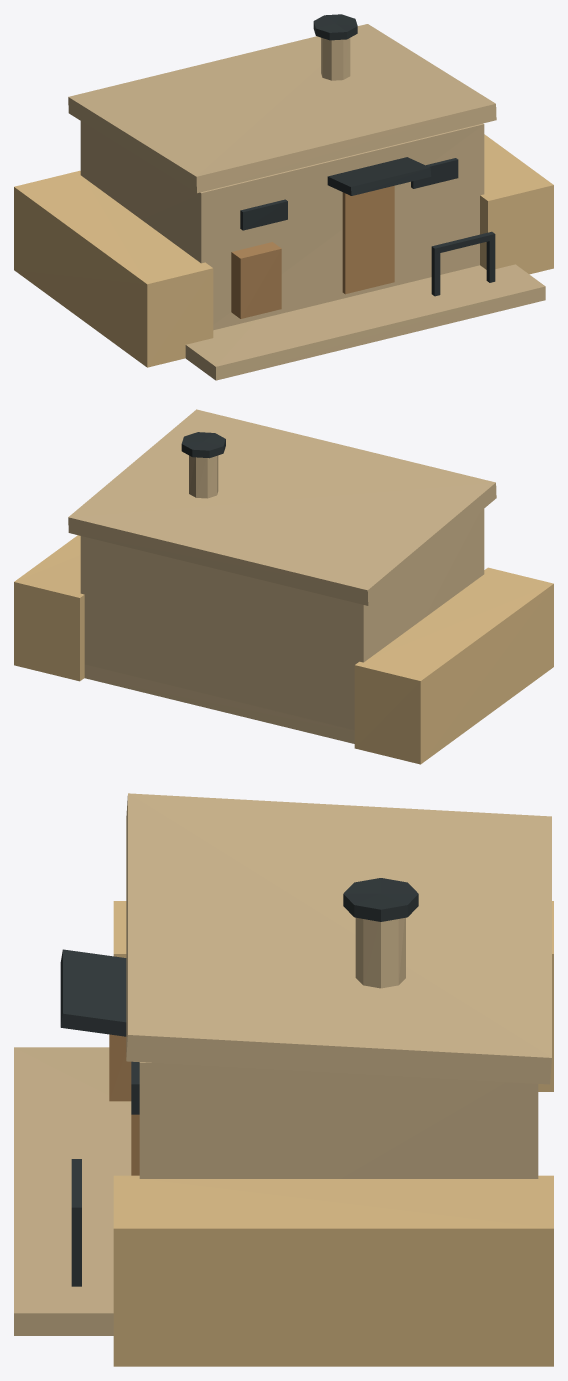
The model's file is Storm-shelter.glb.
The picture shows the model from 3 angles, top to bottom: view 1: azimuth 30°, elevation 25°; view 2: azimuth 150°, elevation 25°; view 3: azimuth 270°, elevation 25°; orthographic projection. The views are drawn at different scales.
Parts seen in each view (by area): view 1: storm-shelter-static-storm-shelter-pale-reinforced-concrete, storm-shelter-static-storm-shelter-muted-earth-berms, storm-shelter-static-storm-shelter-charcoal-canopy-vents-rai, storm-shelter-static-storm-shelter-muted-teal-blast-door, storm-shelter-static-storm-shelter-warm-timber-emergency-cab; view 2: storm-shelter-static-storm-shelter-pale-reinforced-concrete, storm-shelter-static-storm-shelter-muted-earth-berms, storm-shelter-static-storm-shelter-charcoal-canopy-vents-rai; view 3: storm-shelter-static-storm-shelter-pale-reinforced-concrete, storm-shelter-static-storm-shelter-muted-earth-berms, storm-shelter-static-storm-shelter-charcoal-canopy-vents-rai, storm-shelter-static-storm-shelter-warm-timber-emergency-cab.
Boxes of the visible parts, box(x1,y1,x2,y2) form: storm-shelter-static-storm-shelter-pale-reinforced-concrete: box(68, 24, 545, 380); storm-shelter-static-storm-shelter-muted-earth-berms: box(14, 134, 553, 367); storm-shelter-static-storm-shelter-charcoal-canopy-vents-rai: box(240, 14, 495, 296); storm-shelter-static-storm-shelter-muted-teal-blast-door: box(342, 185, 394, 294); storm-shelter-static-storm-shelter-warm-timber-emergency-cab: box(231, 242, 281, 318); storm-shelter-static-storm-shelter-pale-reinforced-concrete: box(68, 409, 496, 743); storm-shelter-static-storm-shelter-muted-earth-berms: box(14, 535, 553, 764); storm-shelter-static-storm-shelter-charcoal-canopy-vents-rai: box(181, 432, 225, 458); storm-shelter-static-storm-shelter-pale-reinforced-concrete: box(14, 793, 551, 1335); storm-shelter-static-storm-shelter-muted-earth-berms: box(113, 901, 553, 1366); storm-shelter-static-storm-shelter-charcoal-canopy-vents-rai: box(60, 878, 418, 1286); storm-shelter-static-storm-shelter-warm-timber-emergency-cab: box(109, 1034, 131, 1101).
Size of the model in its own units: 7.4 by 3.82 by 5.15.
